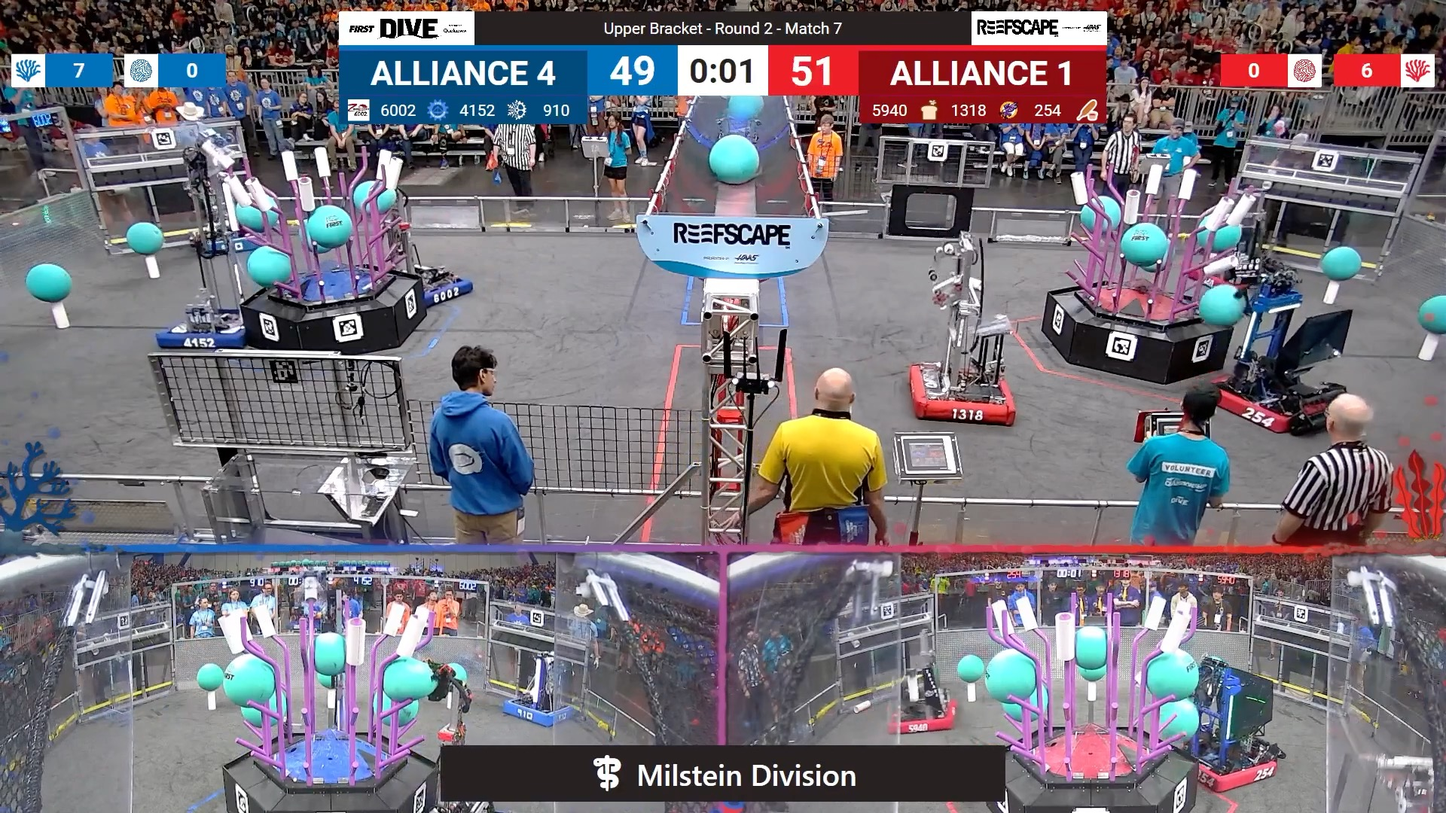bumpers: (1197, 367, 1351, 440), (906, 365, 1023, 432), (1171, 743, 1284, 792), (161, 306, 253, 351), (396, 263, 482, 306), (889, 697, 964, 738), (499, 696, 579, 731), (191, 231, 268, 257)
